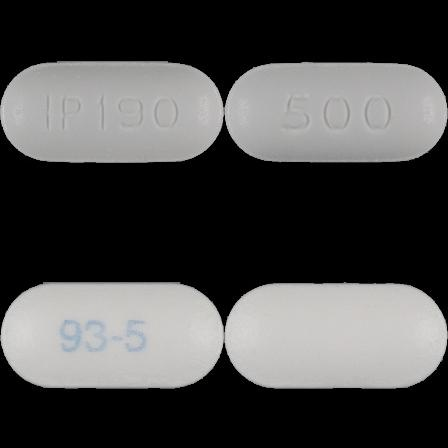33261-081: (0, 0, 224, 224)
